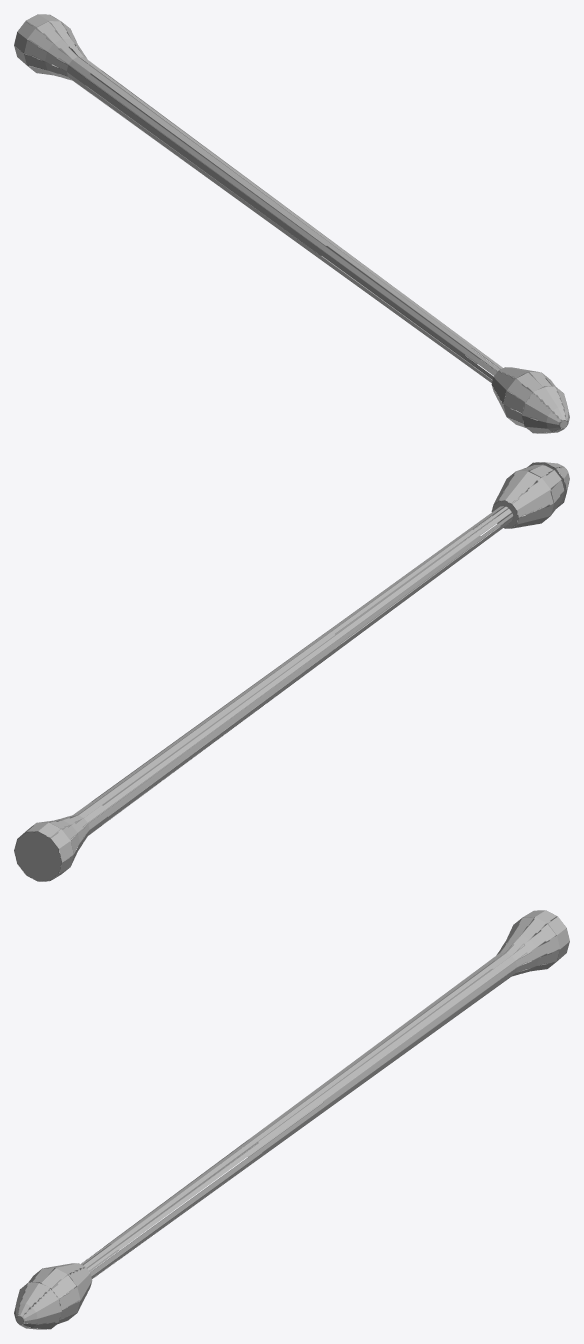
The model's file is pz_street_pole_05.obj.
The picture shows the model from 3 angles, top to bottom: view 1: azimuth 30°, elevation 25°; view 2: azimuth 150°, elevation 25°; view 3: azimuth 330°, elevation 25°; orthographic projection.
Visible parts, largest first — view 1: pz_street_pole_05_|_tapered_native_street_pole, pz_street_pole_05_|_curved_native_lantern_glass, pz_street_pole_05_|_lantern_cap; view 2: pz_street_pole_05_|_tapered_native_street_pole, pz_street_pole_05_|_curved_native_lantern_glass; view 3: pz_street_pole_05_|_tapered_native_street_pole, pz_street_pole_05_|_curved_native_lantern_glass, pz_street_pole_05_|_lantern_cap.
Part boxes in pixels (bbox=[...]): pz_street_pole_05_|_tapered_native_street_pole: bbox=[14, 14, 512, 383]; pz_street_pole_05_|_curved_native_lantern_glass: bbox=[491, 367, 563, 427]; pz_street_pole_05_|_lantern_cap: bbox=[521, 386, 569, 433]; pz_street_pole_05_|_tapered_native_street_pole: bbox=[14, 505, 513, 881]; pz_street_pole_05_|_curved_native_lantern_glass: bbox=[491, 464, 564, 528]; pz_street_pole_05_|_tapered_native_street_pole: bbox=[70, 910, 569, 1280]; pz_street_pole_05_|_curved_native_lantern_glass: bbox=[21, 1263, 92, 1324]; pz_street_pole_05_|_lantern_cap: bbox=[14, 1282, 62, 1329].
Size of the model in its own units: 0.15 by 0.15 by 2.69.
1 material, 1 textured.
